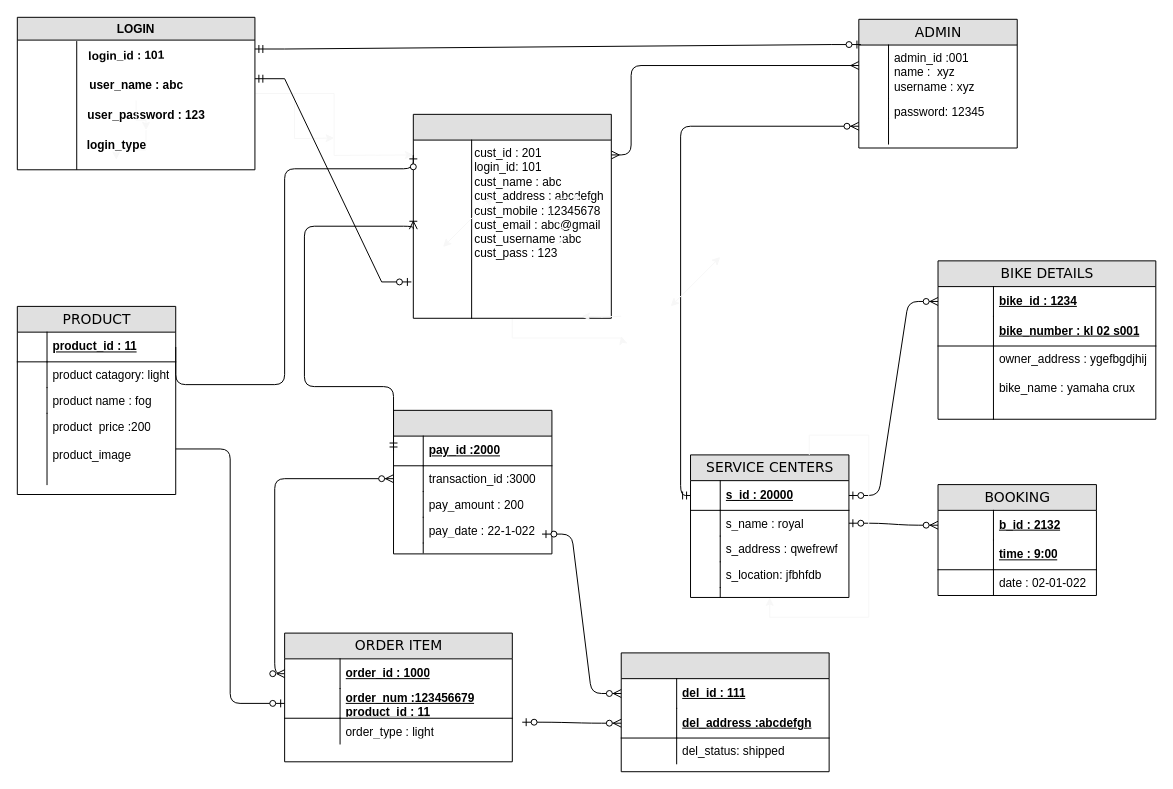
This 1173x789 diagram has some shape labels left out. The box of each missing label's shape, as (x1, y1, x2, y2) in pixels:
CUSTOMER: (412, 113, 611, 318)
DELIVERY: (620, 652, 829, 772)
PAYMENT: (393, 409, 552, 554)
